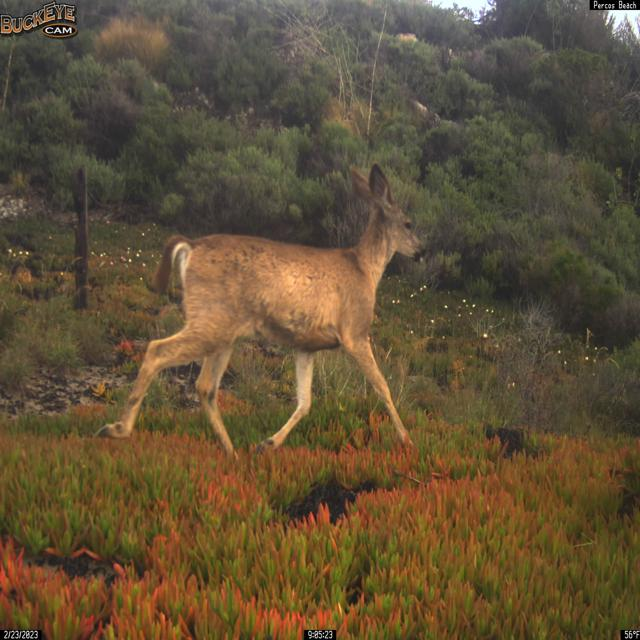deer: (96, 162, 428, 460)
